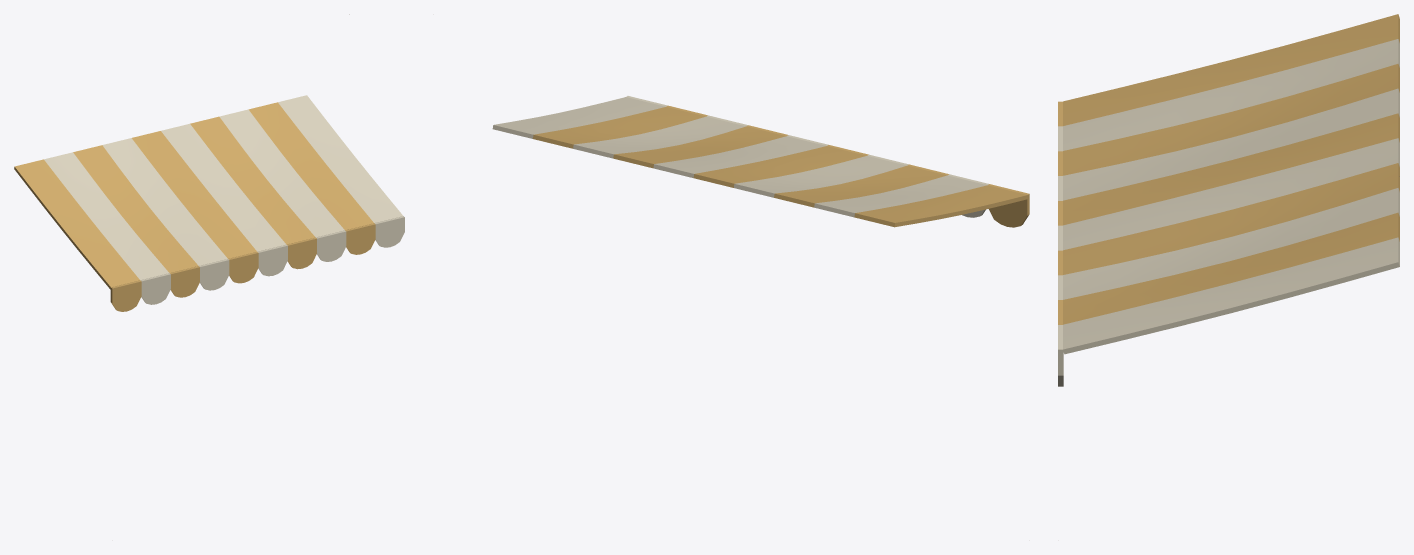
Rendered from FishBuyerStand_canvas.glb.
The picture shows the model from 3 angles, left to right: view 1: azimuth 30°, elevation 25°; view 2: azimuth 150°, elevation 25°; view 3: azimuth 270°, elevation 25°; orthographic projection. The views are drawn at different scales.
Visible parts, largest first — view 1: FishBuyerStand_canvas; view 2: FishBuyerStand_canvas; view 3: FishBuyerStand_canvas.
Boxes of the visible parts, x1=… form: FishBuyerStand_canvas: x1=14, y1=14, x2=404, y2=311; FishBuyerStand_canvas: x1=492, y1=96, x2=1029, y2=227; FishBuyerStand_canvas: x1=1058, y1=14, x2=1399, y2=386.
Size of the model in its own units: 12.05 by 12.8 by 6.11.
